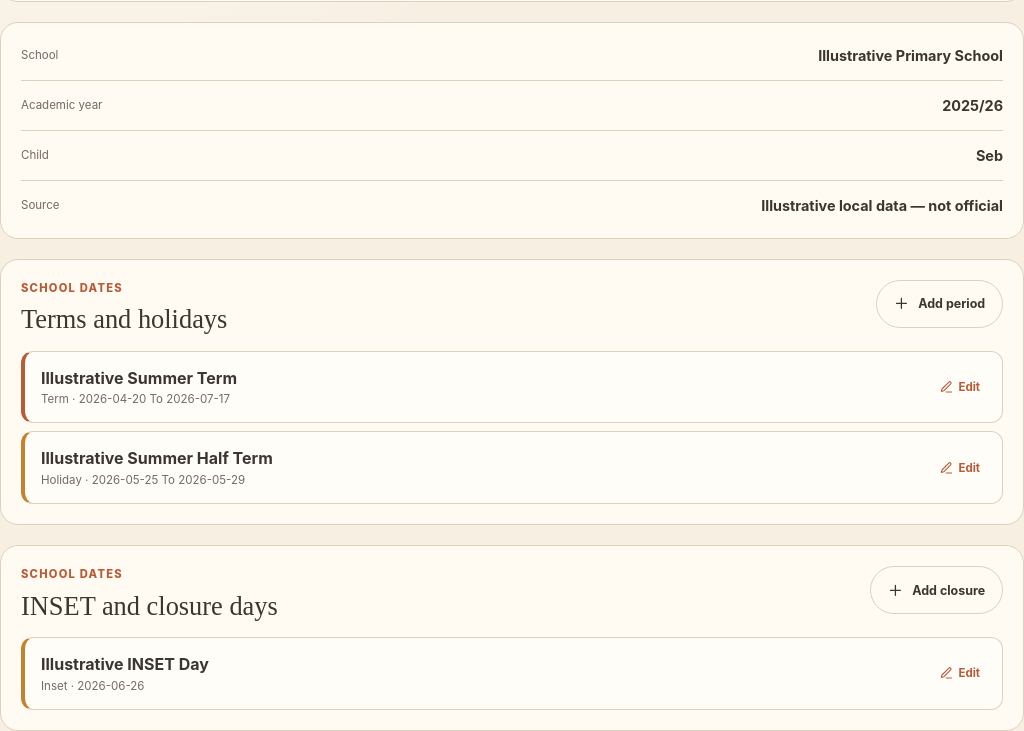
Test: school calendar management › shows the illustrative calendar and adds a closure day locally
(page scrolled)
Expected: the text "Illustrative Primary School" is shown, x1=818 y1=47 x2=1003 y2=64
Expected: the text "Illustrative Summer Term" is shown, x1=41 y1=368 x2=237 y2=388
Click the button "Add closure" at x=936, y=590, box x1=870 y1=566 x2=1003 y2=614
(page scrolled)
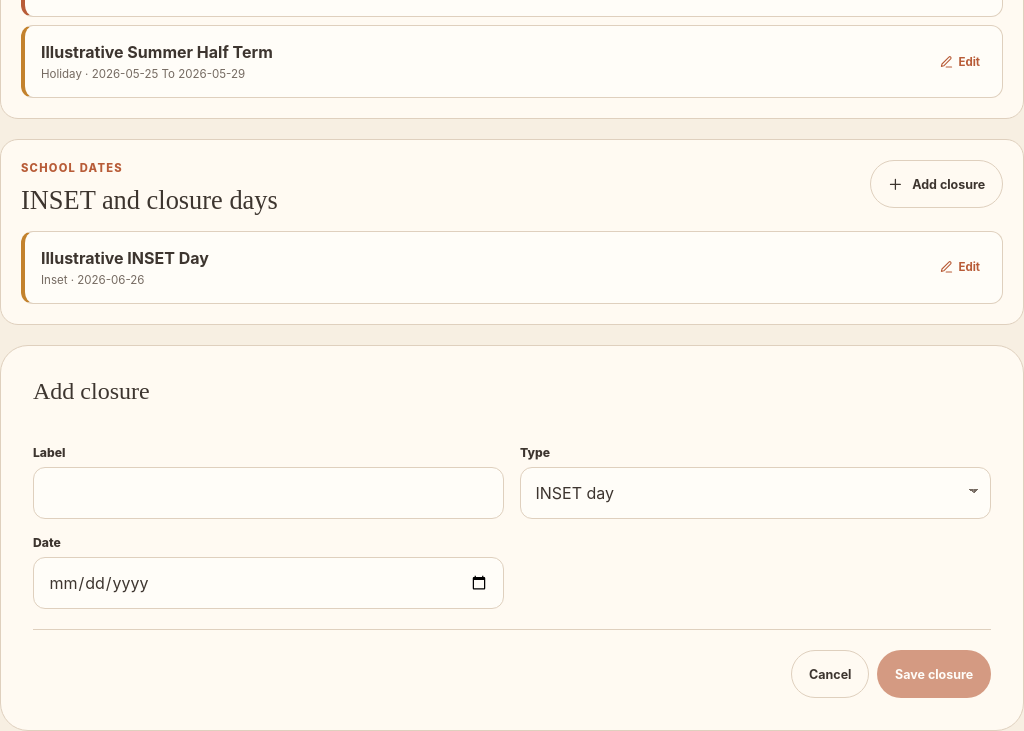
Type "Illustrative emergency closure" into the field labelled "Label" at x=268, y=493, box x1=33 y1=467 x2=504 y2=519
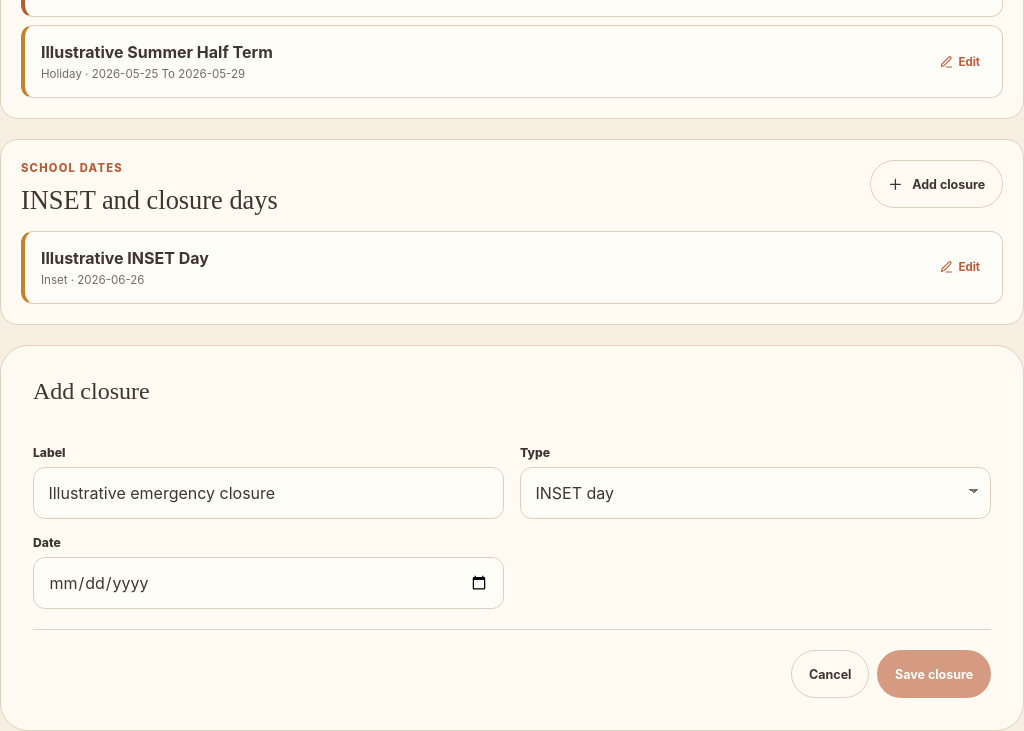
Type "2026-07-02" into the date field labelled "Date" at x=268, y=583, box x1=33 y1=557 x2=504 y2=609
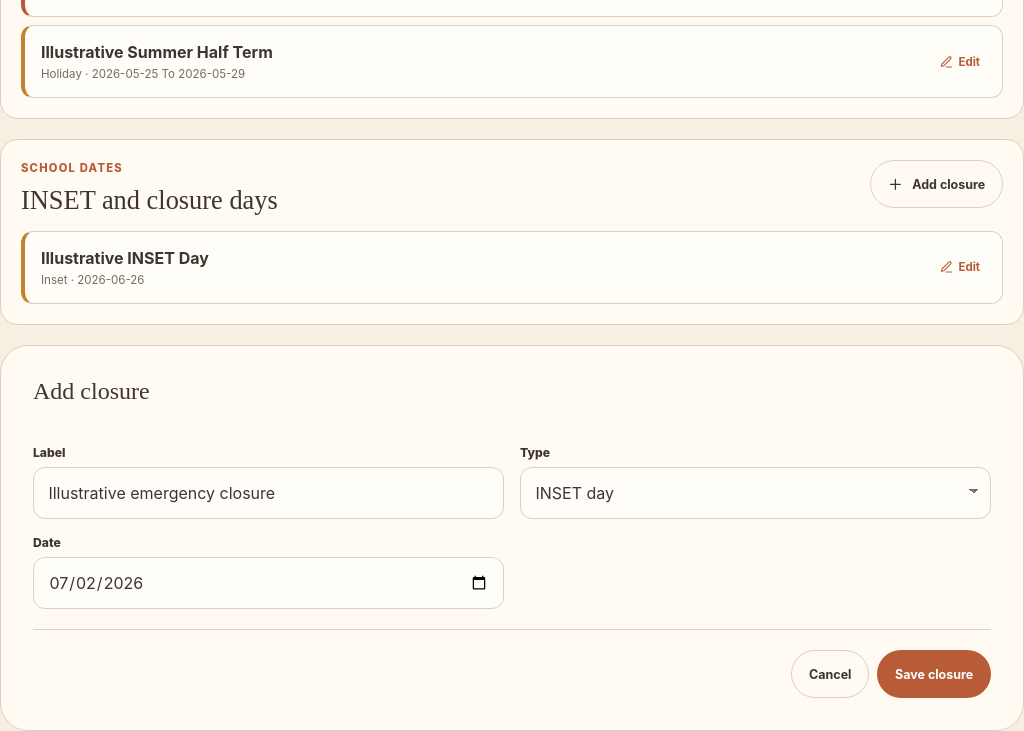
Click the button "Save closure" at x=934, y=674, box x1=877 y1=650 x2=991 y2=698
(page scrolled)
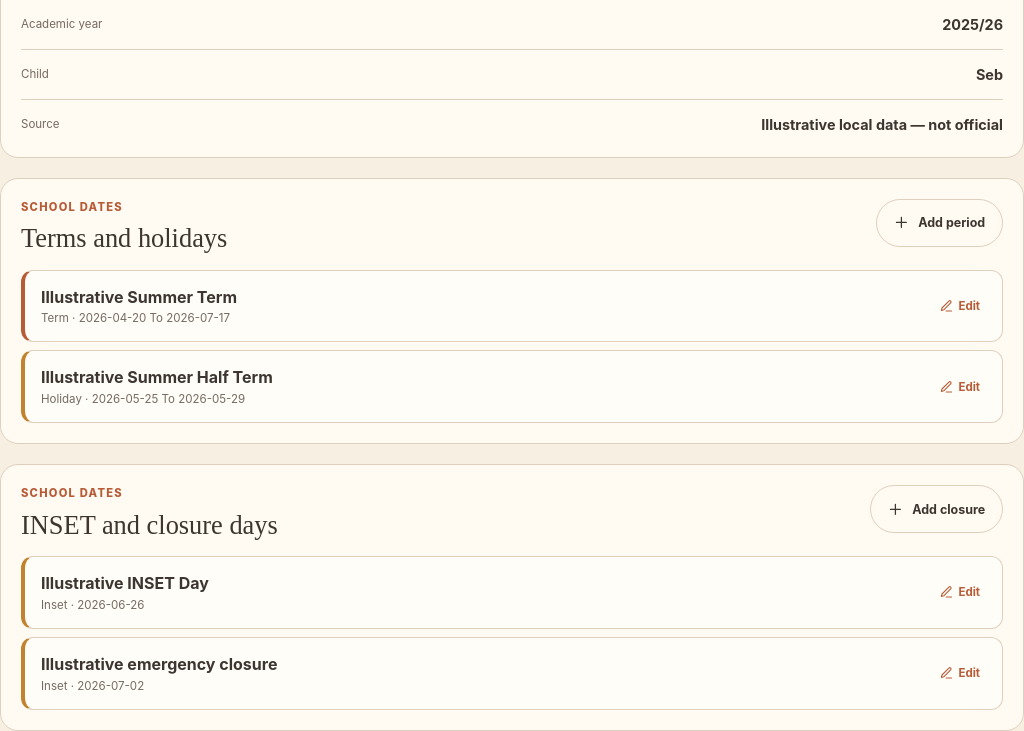
Result: the text "Illustrative emergency closure" is shown at x1=41 y1=654 x2=277 y2=674
